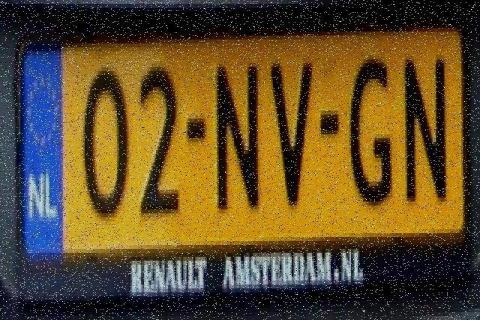LicensePlate: (1, 4, 478, 314)
